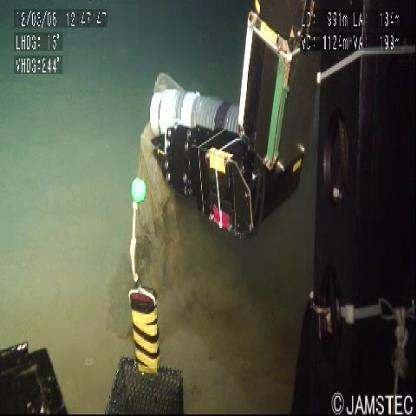Rác: (134, 70, 187, 284)
